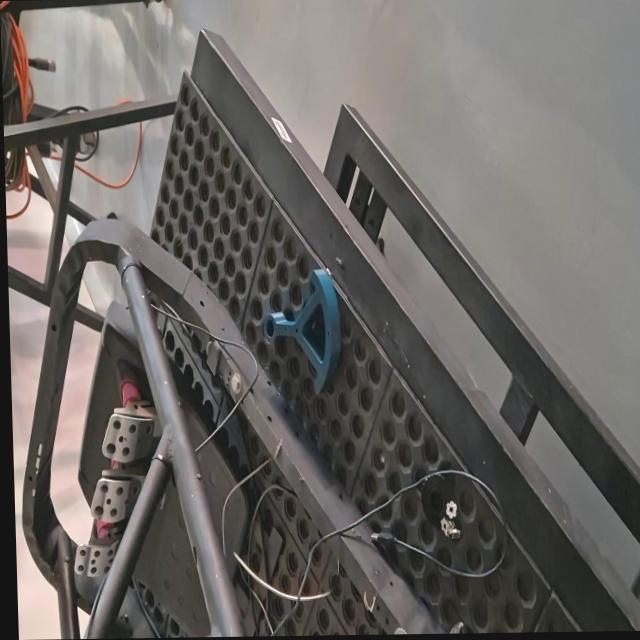haptic: (261, 266, 344, 396)
